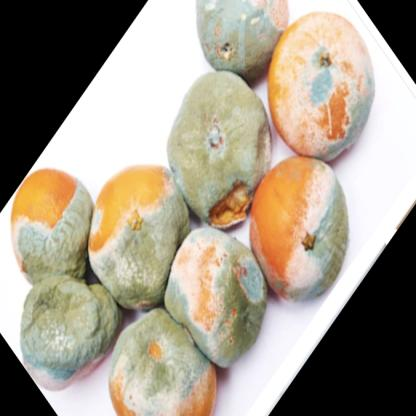rotten: (12, 1, 377, 416)
